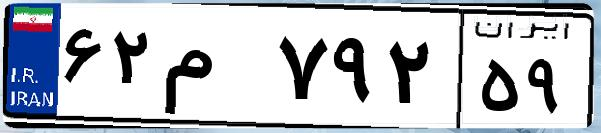2: (385, 28, 445, 110), (110, 28, 158, 98)
5: (475, 38, 525, 113)
6: (57, 26, 110, 100)
7: (270, 28, 330, 110)
9: (330, 28, 385, 110), (525, 38, 570, 115)
م: (158, 20, 270, 120)
